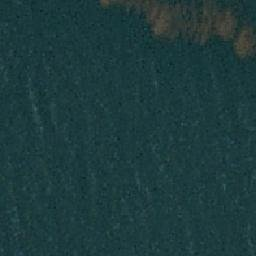debris: (149, 1, 173, 33), (173, 1, 196, 29), (196, 2, 211, 40), (232, 34, 255, 58), (215, 12, 233, 36), (125, 1, 152, 12), (98, 1, 112, 9)
